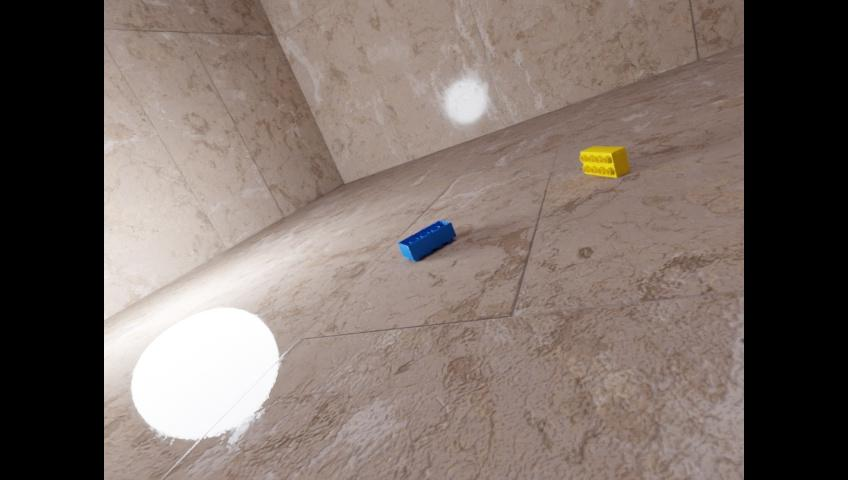4x2_blue: (397, 220, 455, 261)
4x2_yellow: (580, 146, 629, 177)
